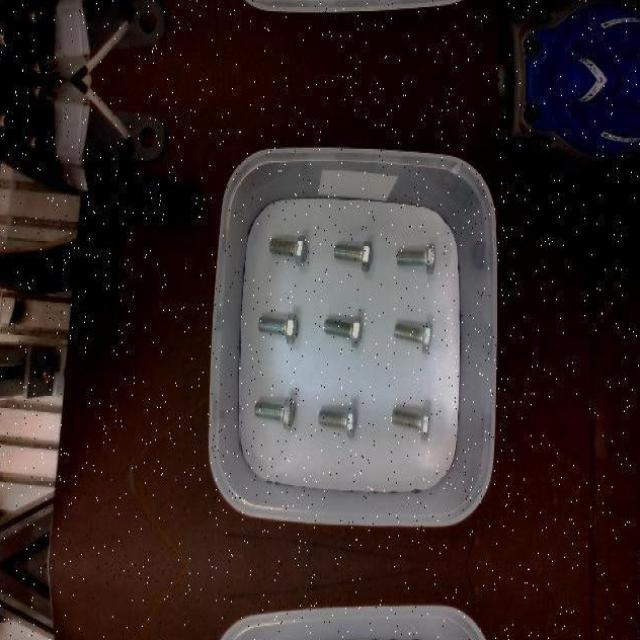screw: (254, 395, 296, 429), (391, 406, 430, 440), (258, 311, 298, 343), (333, 240, 373, 272), (393, 321, 433, 353), (318, 406, 356, 439), (268, 234, 307, 266), (323, 315, 362, 347), (396, 243, 434, 274)
